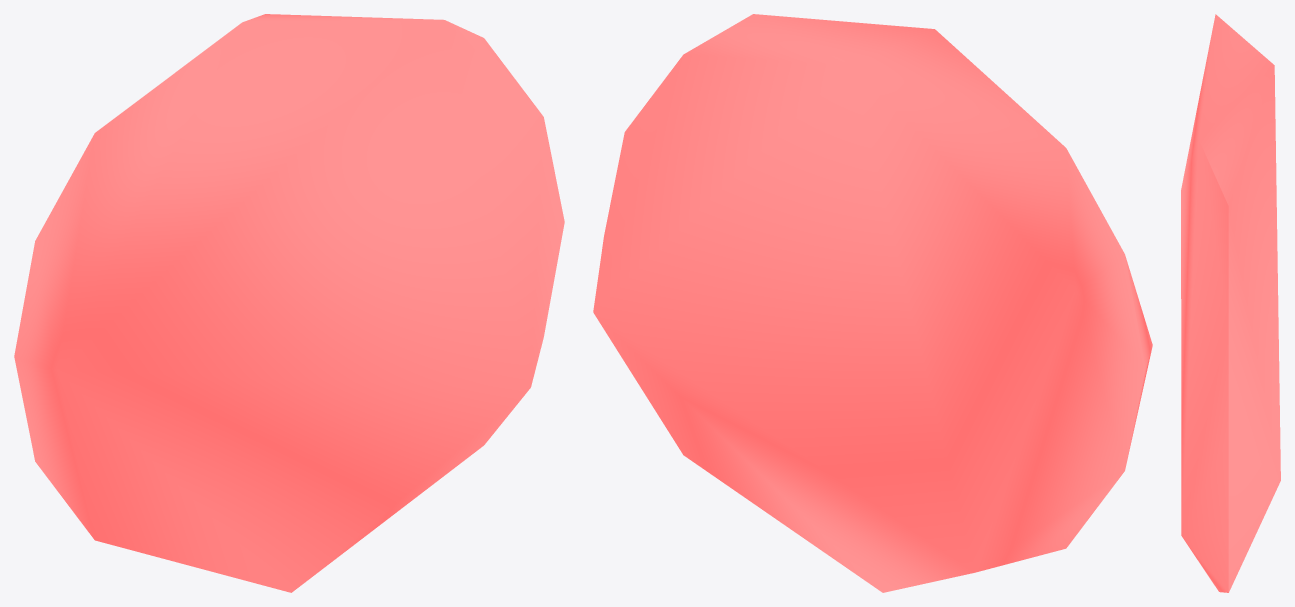
File: MatonImp_OjoLente.fbx
3 renders of one model, left to right at view 1: azimuth 30°, elevation 25°; view 2: azimuth 150°, elevation 25°; view 3: azimuth 270°, elevation 25°, orthographic. The views are drawn at different scales.
Parts seen in each view (by area): view 1: MatonImp_OjoLente; view 2: MatonImp_OjoLente; view 3: MatonImp_OjoLente.
Part boxes in pixels (x1,y1,x2,y2): MatonImp_OjoLente: [14, 14, 564, 592]; MatonImp_OjoLente: [593, 14, 1152, 592]; MatonImp_OjoLente: [1181, 14, 1280, 592].
Bounding box in the file's own units: 0.3571 × 0.3623 × 0.0592.
